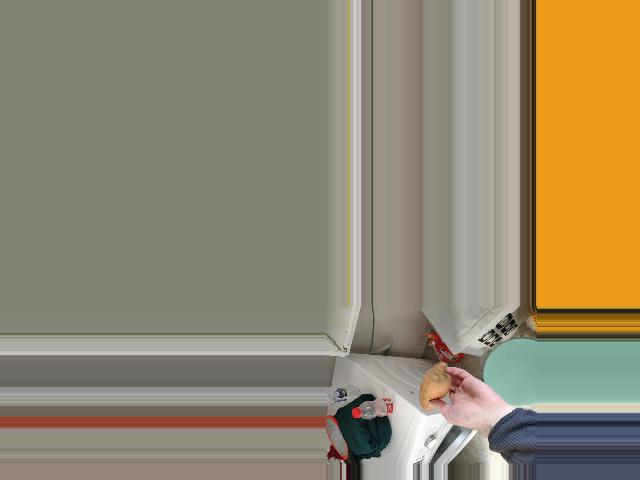sweet_potato: (419, 367, 455, 408)
